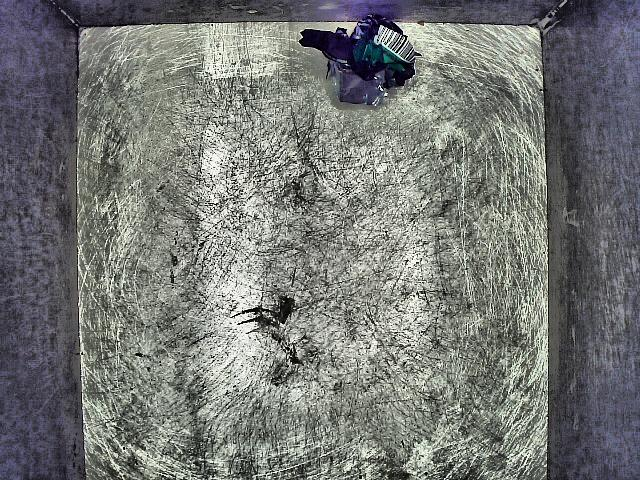Plastic: (292, 21, 448, 131)
